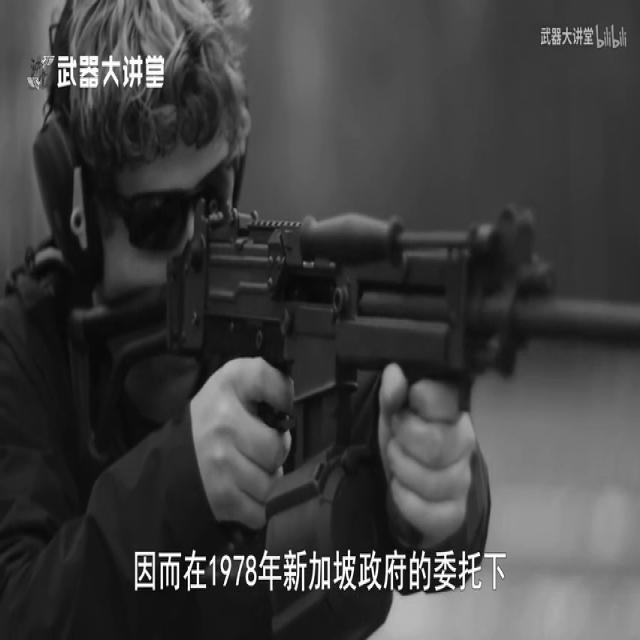Sub-machine-gun: (99, 187, 568, 560)
